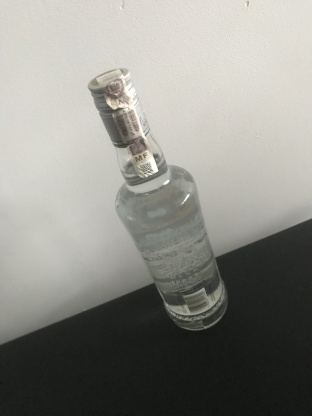nakretka: (86, 64, 151, 149)
